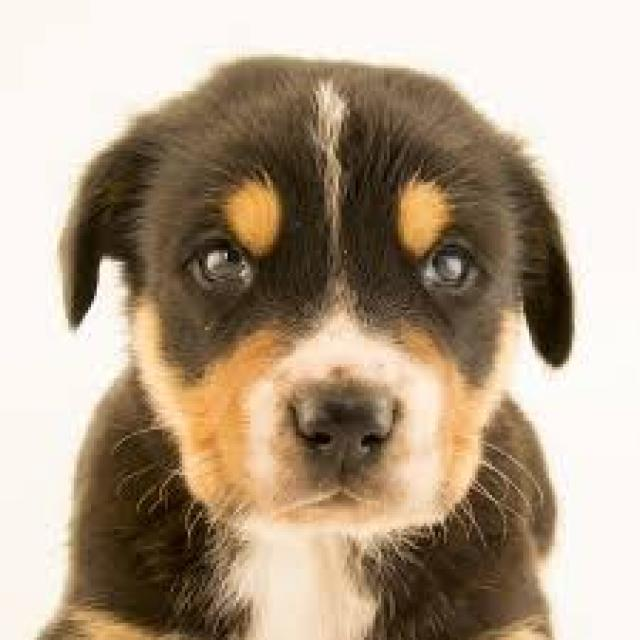DOG: (3, 51, 614, 637)
